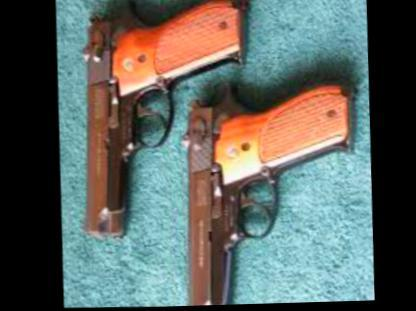pistol: (69, 0, 259, 244), (171, 72, 361, 305)
